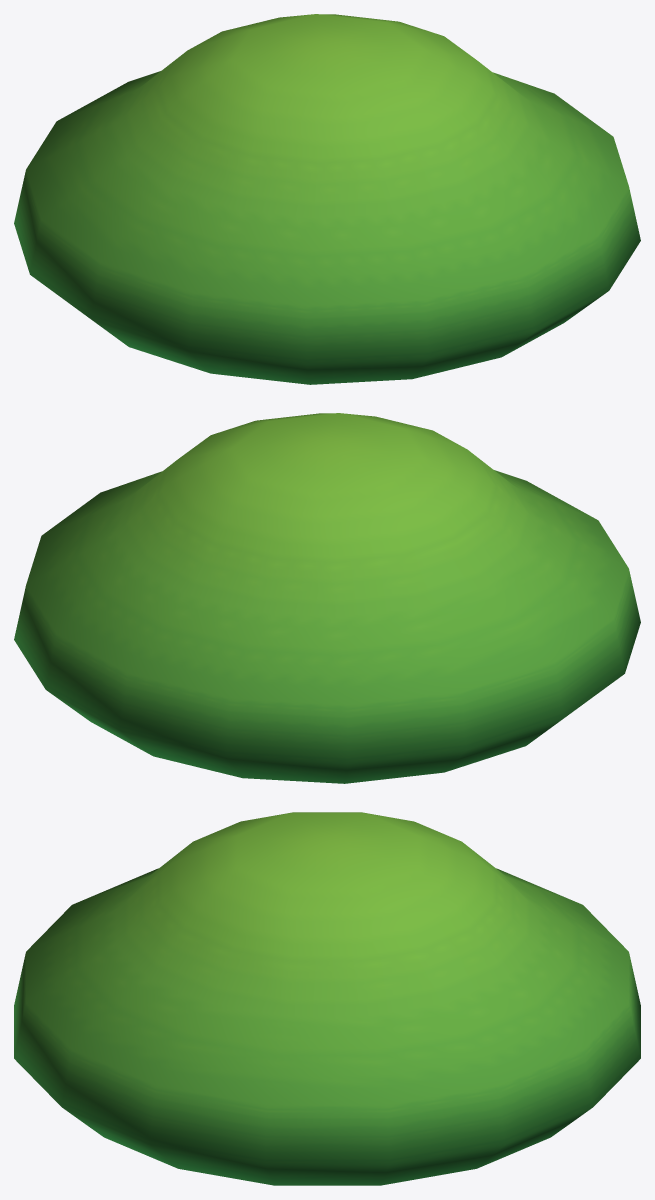
The model's file is Bush_3_A_Color1.gltf.
The picture shows the model from 3 angles, top to bottom: view 1: azimuth 30°, elevation 25°; view 2: azimuth 150°, elevation 25°; view 3: azimuth 270°, elevation 25°; orthographic projection.
Parts seen in each view (by area): view 1: Bush_3_A_Color1; view 2: Bush_3_A_Color1; view 3: Bush_3_A_Color1.
Part boxes in pixels (left/top/right/bottom): Bush_3_A_Color1: left=14, top=14, right=640, bottom=384; Bush_3_A_Color1: left=14, top=413, right=640, bottom=783; Bush_3_A_Color1: left=14, top=812, right=640, bottom=1185.
Bounding box in the file's own units: 1.03 × 0.4853 × 1.03.
1 material, 1 textured.
